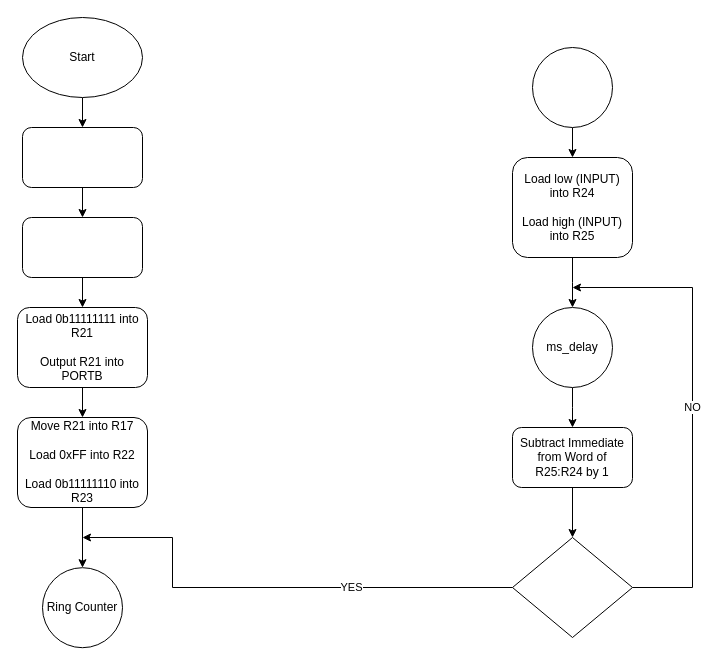
This 718x666 diagram has some shape labels left out. The shapes that lost their labels are listed below. From the top down, each one's box as (x1, y1, x2, y2) in pixels, then its label:
(532, 46, 612, 128): DELAY
(22, 126, 142, 188): Define (.equ) INPUT
(22, 216, 142, 278): Setting up DDRB Set PORTB as output
(512, 536, 632, 638): Is R25 equal to high(0)?
